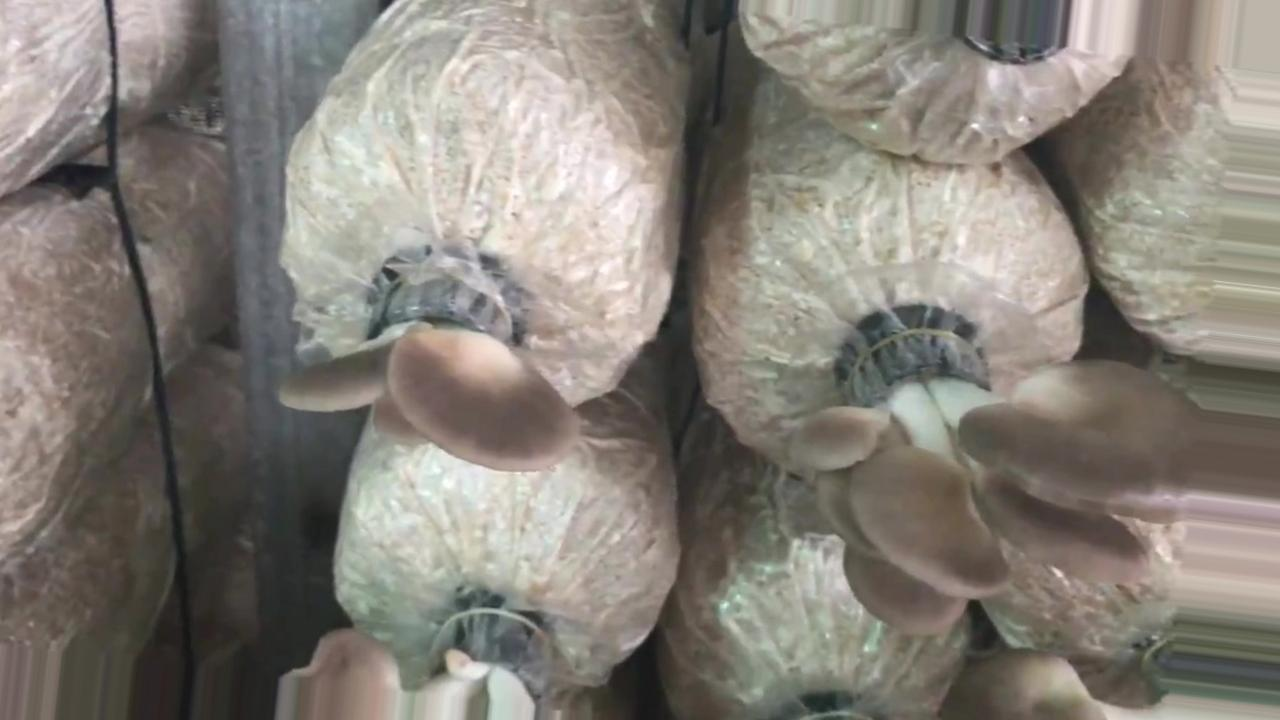nam: (807, 332, 1217, 630), (285, 243, 577, 473)
